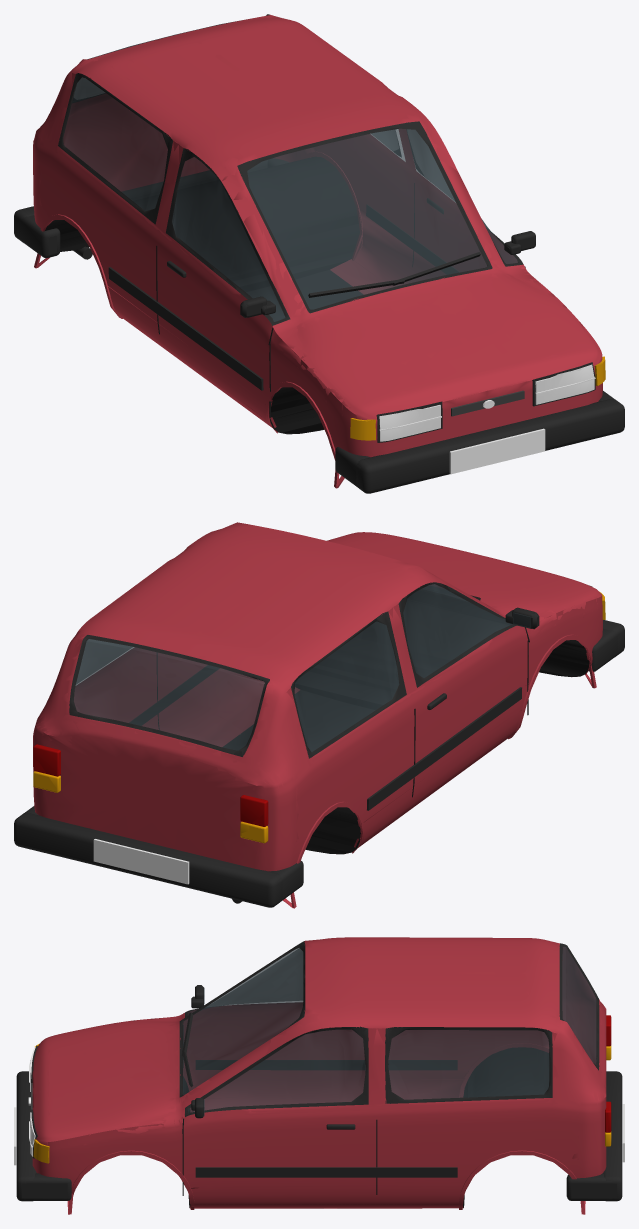
File: oka.glb
3 views of the same model, one above another, from view 1: azimuth 30°, elevation 25°; view 2: azimuth 150°, elevation 25°; view 3: azimuth 270°, elevation 25° (orthographic). The views are drawn at different scales.
Visible parts, largest first — view 1: LOD_hi, LOD0; view 2: LOD_hi, LOD0; view 3: LOD_hi, LOD0.
Part boxes in pixels (x1=…): LOD_hi: x1=14, y1=14, x2=624, y2=493; LOD0: x1=34, y1=14, x2=604, y2=487; LOD_hi: x1=14, y1=522, x2=624, y2=908; LOD0: x1=33, y1=522, x2=605, y2=908; LOD_hi: x1=14, y1=937, x2=624, y2=1213; LOD0: x1=14, y1=939, x2=624, y2=1214.
Size of what is drawn, in the model's own units: 1.62 by 1.2 by 3.41.
